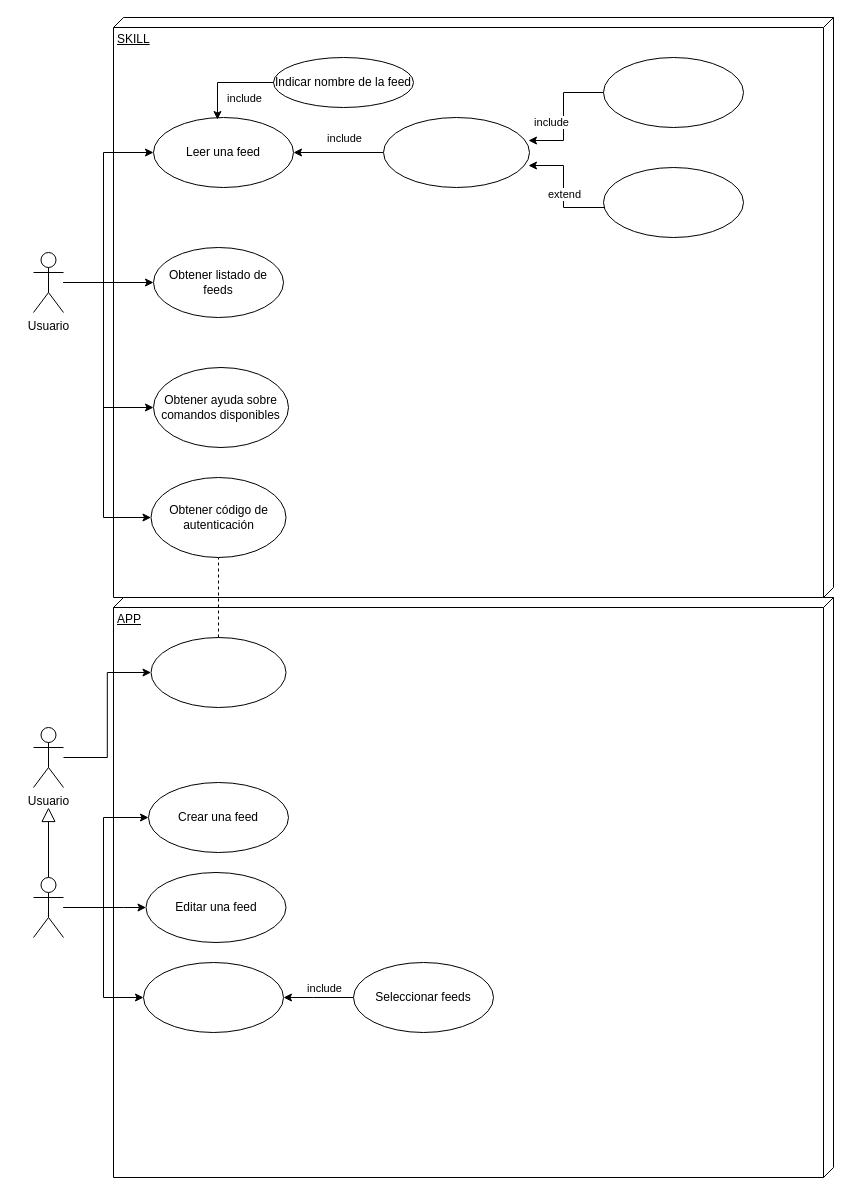
Image size: 851x1195. Some labels were removed from this diagram. The shapes that lost their labels are listed below. From the top down, each one's centre as x and y in pixels, then its label:
(x=673, y=92): Leer el título del elemento
(x=456, y=152): Leer un elemento de la feed
(x=673, y=202): Leer el contenido del elemento
(x=218, y=672): Iniciar sesión con código
(x=48, y=907): Usuario autenticado
(x=213, y=997): Borrar una (o varias) feeds
